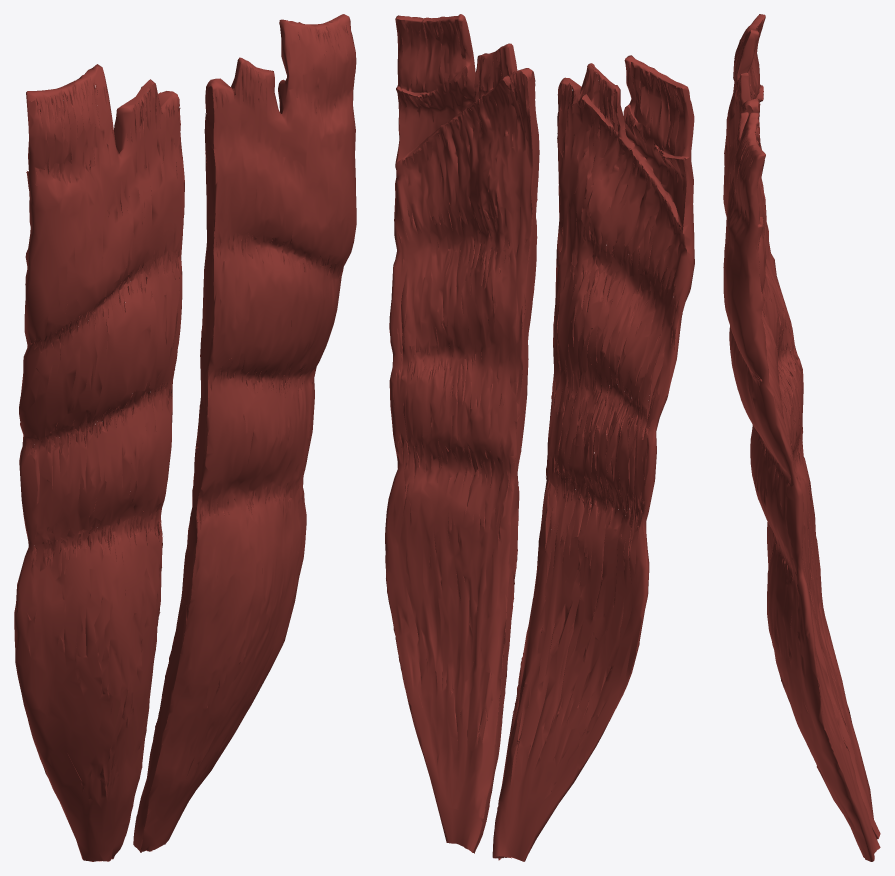
File: explorar-rectus_abdominis.glb
3 renders of one model, left to right at view 1: azimuth 30°, elevation 25°; view 2: azimuth 150°, elevation 25°; view 3: azimuth 270°, elevation 25°, orthographic. The views are drawn at different scales.
Visible parts, largest first — view 1: rectus_abdominis__recto_derecho, rectus_abdominis__recto_izquierdo; view 2: rectus_abdominis__recto_izquierdo, rectus_abdominis__recto_derecho; view 3: rectus_abdominis__recto_izquierdo, rectus_abdominis__recto_derecho.
Part boxes in pixels (x1,y1,x2,y2): rectus_abdominis__recto_derecho: [14, 64, 184, 861]; rectus_abdominis__recto_izquierdo: [133, 14, 356, 852]; rectus_abdominis__recto_izquierdo: [385, 14, 539, 853]; rectus_abdominis__recto_derecho: [492, 55, 694, 861]; rectus_abdominis__recto_izquierdo: [723, 112, 880, 861]; rectus_abdominis__recto_derecho: [723, 14, 880, 839].
Size of the model in its own units: 0.1581 by 0.3956 by 0.0725.
